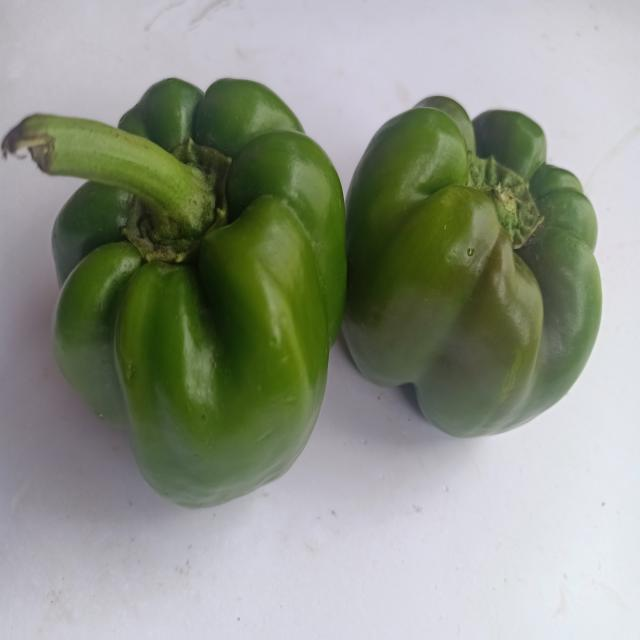Capsicum: (6, 78, 382, 512), (342, 95, 603, 437)
